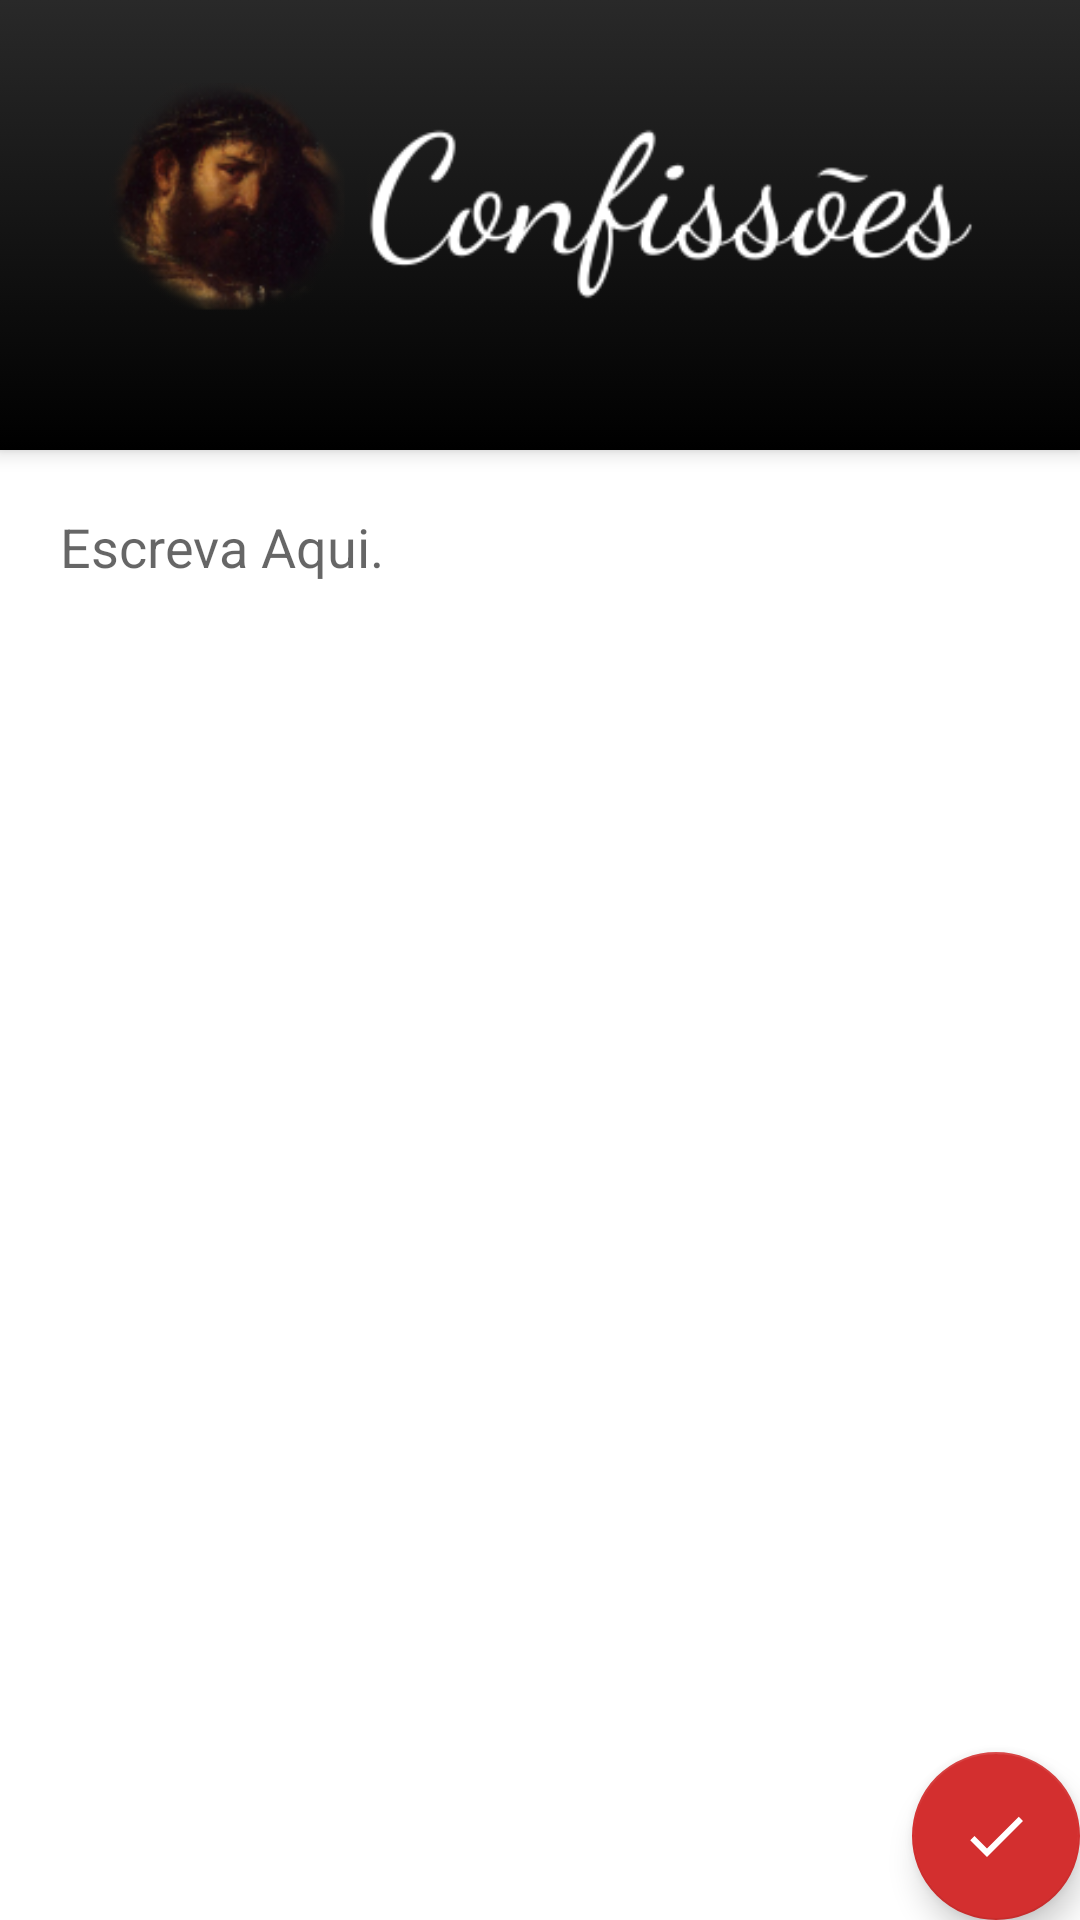

Screen size 1080×1920. Icon name, then its box in pixels as bbox=[x1, y1, x2, y2]:
check: bbox=[912, 1752, 1080, 1920]
